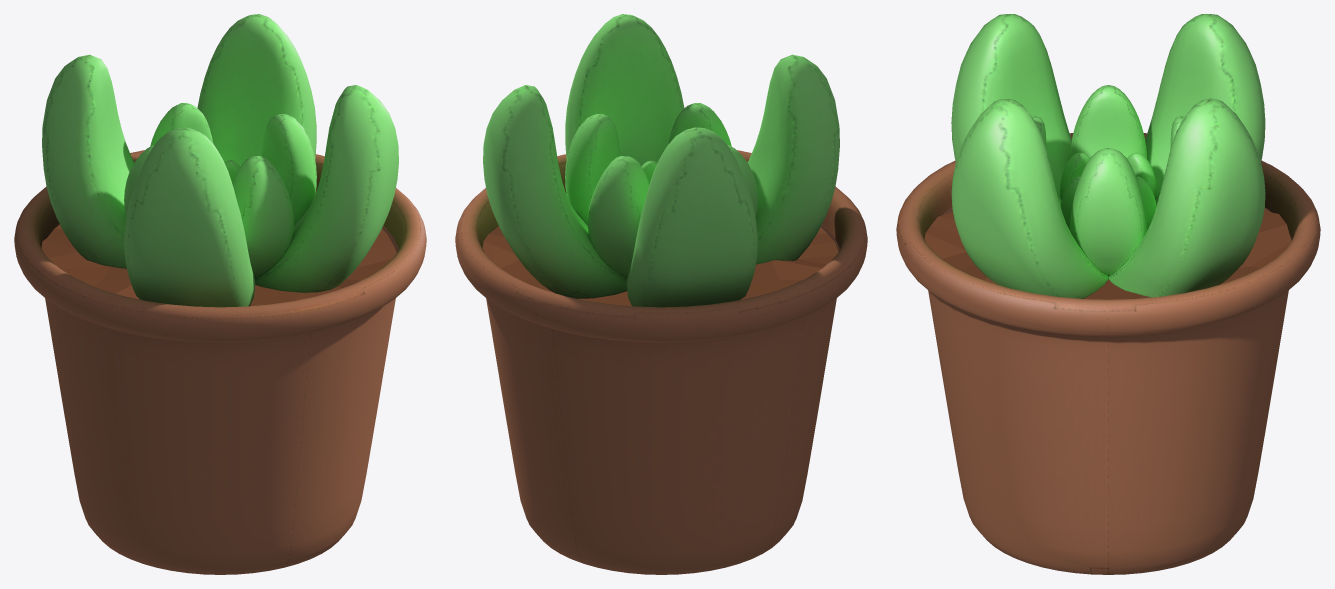
The model's file is shelf_decor6.glb.
The picture shows the model from 3 angles, left to right: view 1: azimuth 30°, elevation 25°; view 2: azimuth 150°, elevation 25°; view 3: azimuth 270°, elevation 25°; orthographic projection. The views are drawn at different scales.
Visible parts, largest first — view 1: Cylinder, Cube.007, Cube.006, Cube.008, Cube.005, Cube.003, Cylinder.001, Cube.002, Cube.001, Cube.004; view 2: Cylinder, Cube.008, Cube.005, Cube.007, Cube.006, Cube.001, Cylinder.001, Cube.002, Cube.003, Cube.004; view 3: Cylinder, Cube.006, Cube.005, Cube.008, Cube.007, Cube.002, Cylinder.001, Cube.004, Cube.011, Cube.012.
Boxes of the visible parts, <box> form: Cylinder: <box>14,150,426,574</box>; Cube.007: <box>124,127,255,307</box>; Cube.006: <box>254,85,398,292</box>; Cube.008: <box>42,54,134,268</box>; Cube.005: <box>197,14,316,166</box>; Cube.003: <box>232,156,293,277</box>; Cylinder.001: <box>41,190,396,306</box>; Cube.002: <box>261,114,316,224</box>; Cube.001: <box>150,103,213,146</box>; Cube.004: <box>124,145,153,218</box>; Cylinder: <box>455,150,867,574</box>; Cube.008: <box>626,127,757,307</box>; Cube.005: <box>483,85,627,298</box>; Cube.007: <box>747,54,839,264</box>; Cube.006: <box>565,14,684,166</box>; Cube.001: <box>588,156,649,277</box>; Cylinder.001: <box>482,227,838,306</box>; Cube.002: <box>565,114,620,224</box>; Cube.003: <box>668,103,731,146</box>; Cube.004: <box>728,145,757,218</box>; Cylinder: <box>896,133,1320,574</box>; Cube.006: <box>951,99,1108,298</box>; Cube.005: <box>1108,98,1265,297</box>; Cube.008: <box>1145,14,1265,197</box>; Cube.007: <box>951,14,1071,197</box>; Cube.002: <box>1069,148,1147,274</box>; Cylinder.001: <box>924,209,1291,299</box>; Cube.004: <box>1070,85,1146,158</box>; Cube.011: <box>1060,152,1089,199</box>; Cube.012: <box>1127,152,1156,199</box>.
Size of the model in its own units: 1.82 by 2.24 by 1.82.
3 materials, 2 textured.
